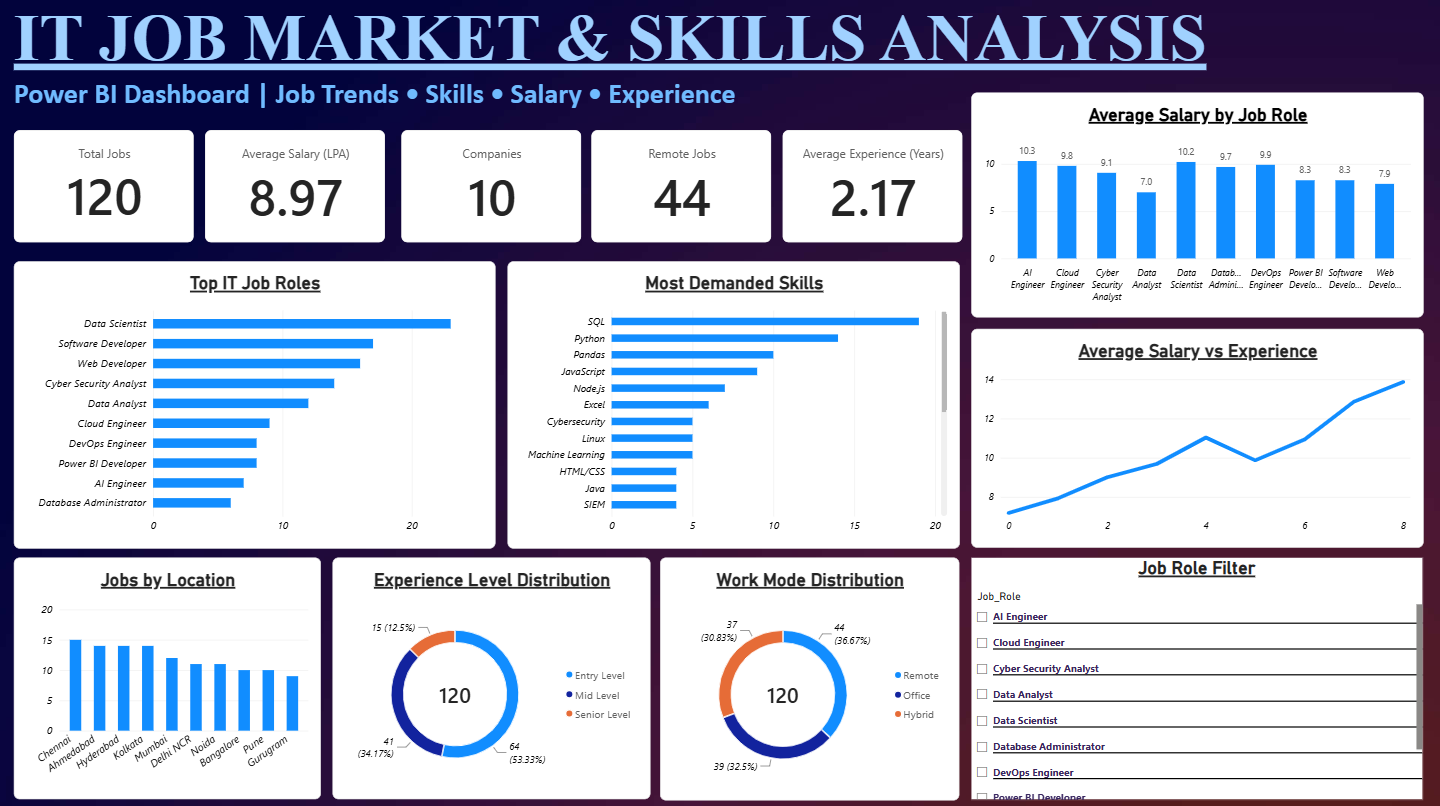

This screenshot's page, from the dashboard's own definition file:
{"tool":"powerbi","page":{"name":"Page 1","canvas":[1920,1080],"ordinal":0},"visuals":[{"type":"cardVisual","fields":{"Data":["JobData.Average Salary"]},"box":[272.8,173,240,150],"z":0},{"type":"cardVisual","fields":{"Data":["JobData.Companies"]},"box":[534.7,173,240,150],"z":1000},{"type":"cardVisual","fields":{"Data":["JobData.Remote Jobs"]},"box":[788.8,173,240,150],"z":2000},{"type":"cardVisual","fields":{"Data":["JobData.Average Experience"]},"box":[1043.6,172.9,240,150.3],"z":3000},{"type":"clusteredBarChart","title":"Top IT Job Roles","fields":{"Category":["JobData.Job_Role"],"Y":["CountNonNull(JobData.Job_ID)"]},"box":[18.7,347.6,642.3,383.5],"z":4000},{"type":"clusteredColumnChart","title":"Most Demanded Skills","fields":{"Category":["JobData.Required_Skill"],"Y":["CountNonNull(JobData.Job_ID)"]},"box":[676.6,347.6,603.3,383.5],"z":5000},{"type":"columnChart","title":"Jobs by Location","fields":{"Category":["JobData.Location"],"Y":["CountNonNull(JobData.Job_ID)"]},"box":[18.7,743.6,410,322.7],"z":6000},{"type":"donutChart","title":"Experience Level Distribution","fields":{"Category":["JobData.Experience_Level"],"Y":["CountNonNull(JobData.Job_ID)"]},"box":[442.7,743.6,424,322.7],"z":7000},{"type":"donutChart","title":"Work Mode Distribution","fields":{"Category":["JobData.Work_Mode"],"Y":["CountNonNull(JobData.Job_ID)"]},"box":[880.8,743.6,399.1,324.3],"z":8000},{"type":"clusteredColumnChart","title":"Average Salary by Job Role","fields":{"Category":["JobData.Job_Role"],"Y":["Avg(JobData.Salary_LPA)"]},"box":[1295,123.3,603.3,300],"z":9000},{"type":"lineChart","title":"Average Salary vs Experience","fields":{"Category":["JobData.Experience_Years"],"Y":["Avg(JobData.Salary_LPA)"]},"box":[1294.7,438.4,603.1,292.3],"z":10000},{"type":"slicer","title":"Job Role Filter","fields":{"Values":["JobData.Job_Role"]},"box":[1295.4,743.6,601.7,322.7],"z":11000},{"type":"textbox","box":[18.7,0,1878.5,165.2],"z":12000},{"type":"cardVisual","fields":{"Data":["JobData.Total Jobs"]},"box":[18.7,173,240,150],"z":13000}]}

Visuals, with their boxes in screenshot pixels (x1, y1, x2, y2), scaled from the page's 1920x1080 canvas onto the 1440x806 screenshot:
cardVisual - JobData.Average Salary: left=205, top=129, right=385, bottom=241
cardVisual - JobData.Companies: left=401, top=129, right=581, bottom=241
cardVisual - JobData.Remote Jobs: left=592, top=129, right=772, bottom=241
cardVisual - JobData.Average Experience: left=783, top=129, right=963, bottom=241
"Top IT Job Roles" clusteredBarChart: left=14, top=259, right=496, bottom=546
"Most Demanded Skills" clusteredColumnChart: left=507, top=259, right=960, bottom=546
"Jobs by Location" columnChart: left=14, top=555, right=322, bottom=796
"Experience Level Distribution" donutChart: left=332, top=555, right=650, bottom=796
"Work Mode Distribution" donutChart: left=661, top=555, right=960, bottom=797
"Average Salary by Job Role" clusteredColumnChart: left=971, top=92, right=1424, bottom=316
"Average Salary vs Experience" lineChart: left=971, top=327, right=1423, bottom=545
"Job Role Filter" slicer: left=972, top=555, right=1423, bottom=796
textbox: left=14, top=0, right=1423, bottom=123
cardVisual - JobData.Total Jobs: left=14, top=129, right=194, bottom=241
